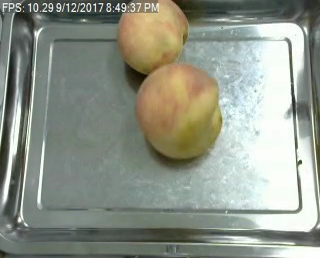Peach: (136, 60, 224, 157), (117, 0, 190, 74)
